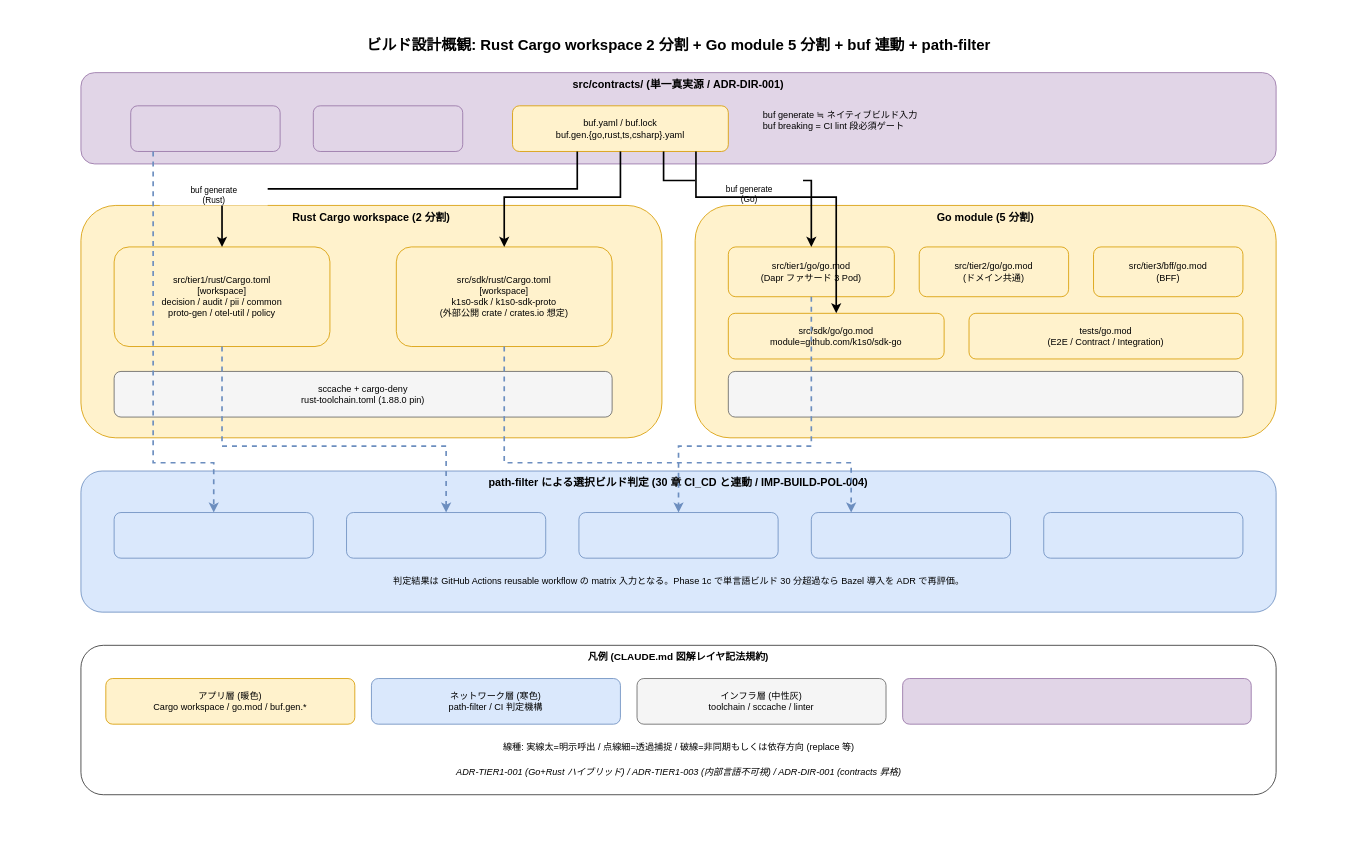
Image size: 1356x858. Some labels were removed from this diagram. Each missing label, with the centre of its shape:
contracts 変更 → 4 言語全生成 + 全 tier 再ビルド: the point at 213,535
docs/** のみ変更 → CI 全スキップ: the point at 1143,535
internal/v1/*.proto (tier1 内部 gRPC): the point at 387,128
replace ディレクティブで相対 path 参照 独自 linter が依存方向逆流を検出: the point at 985,394
src/sdk/** 変更 → 対象 SDK のみビルド: the point at 910,535
src/tier1/go/** 変更 → Go tier1 のみビルド: the point at 678,535
src/tier1/rust/** 変更 → Rust tier1 のみビルド: the point at 446,535
tier1/v1/*.proto (公開 11 API): the point at 205,128
データ層 (薄紫) src/contracts/ (Protobuf 単一真実源): the point at 1076,701
